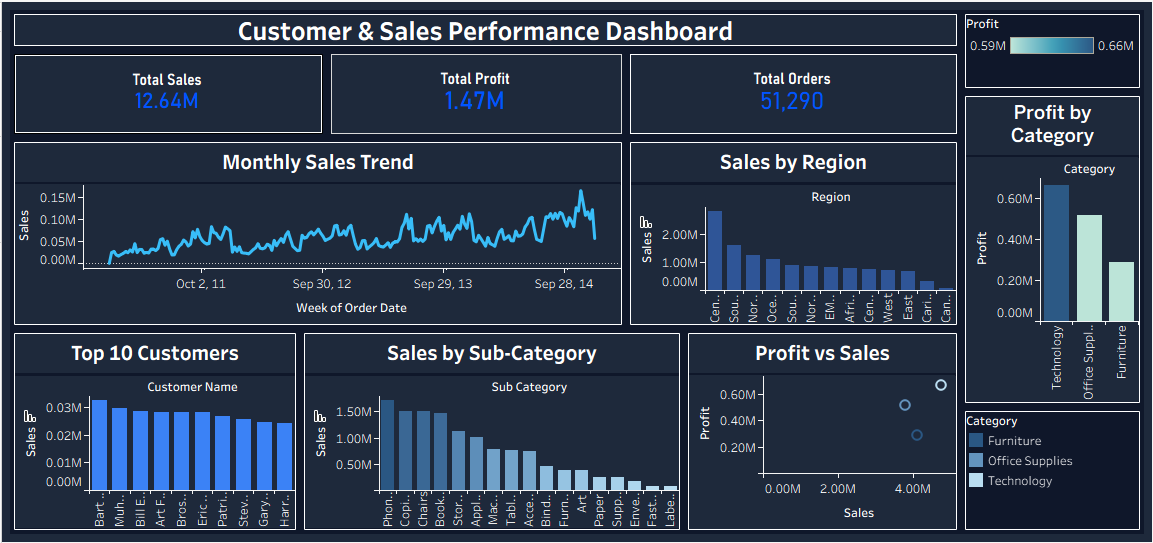

This screenshot's page, from the dashboard's own definition file:
{"tool":"tableau","page":{"name":"Dashboard 1","canvas":[1150,540],"ordinal":0},"visuals":[{"type":"title","box":[8,8,951,40]},{"type":"legend","title":"profitbycategory","param":"[federated.0dz2dke1dbmebk107whw10sopirm].[sum:profit:qk]","box":[959,8,183,82]},{"type":"worksheet","title":"kpi1","mark":"Automatic","box":[8,48,317,87.8]},{"type":"worksheet","title":"kpi2","mark":"Automatic","box":[325,48,299,87.8]},{"type":"worksheet","title":"kpi3","mark":"Automatic","box":[624,48,335,87.8]},{"type":"worksheet","title":"profitbycategory","mark":"Automatic","rows":["profit"],"cols":["category"],"box":[959,90,183,315]},{"type":"worksheet","title":"monthlytrend","mark":"Line","rows":["sales"],"cols":["order_date"],"box":[8,135.8,616,191.1]},{"type":"worksheet","title":"salesbyregion","mark":"Automatic","rows":["sales"],"cols":["region"],"box":[624,135.8,334.9,191.1]},{"type":"worksheet","title":"top10cust","mark":"Automatic","rows":["sales"],"cols":["customer_name"],"box":[8,326.9,290,205.1]},{"type":"worksheet","title":"salesbysubcategory","mark":"Automatic","rows":["sales"],"cols":["sub_category"],"box":[298,326.9,384,205.1]},{"type":"worksheet","title":"profitvssales","mark":"Automatic","rows":["profit"],"cols":["sales"],"box":[682,326.9,277,205.1]},{"type":"legend","title":"profitvssales","param":"[federated.0dz2dke1dbmebk107whw10sopirm].[none:category:nk]","box":[959,405,183,127]}]}

Visuals, with their boxes in screenshot pixels (x1, y1, x2, y2), scaled from the page's 1150x540 canvas onto the 1153x543 screenshot:
title: 8:8:962:48
"profitbycategory" legend: 962:8:1145:90
"kpi1" worksheet: 8:48:326:137
"kpi2" worksheet: 326:48:626:137
"kpi3" worksheet: 626:48:962:137
"profitbycategory" worksheet: 962:90:1145:407
"monthlytrend" worksheet (Line marks): 8:137:626:329
"salesbyregion" worksheet: 626:137:961:329
"top10cust" worksheet: 8:329:299:535
"salesbysubcategory" worksheet: 299:329:684:535
"profitvssales" worksheet: 684:329:962:535
"profitvssales" legend: 962:407:1145:535
